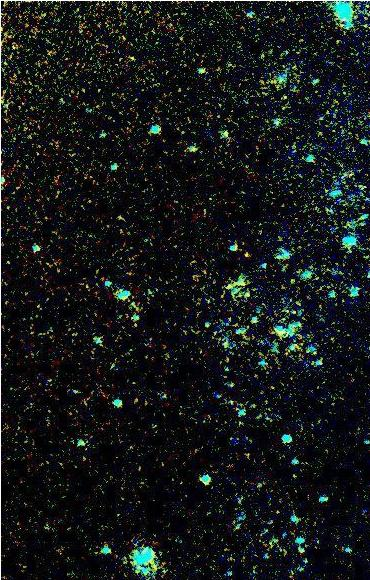star: (233, 240, 263, 270)
